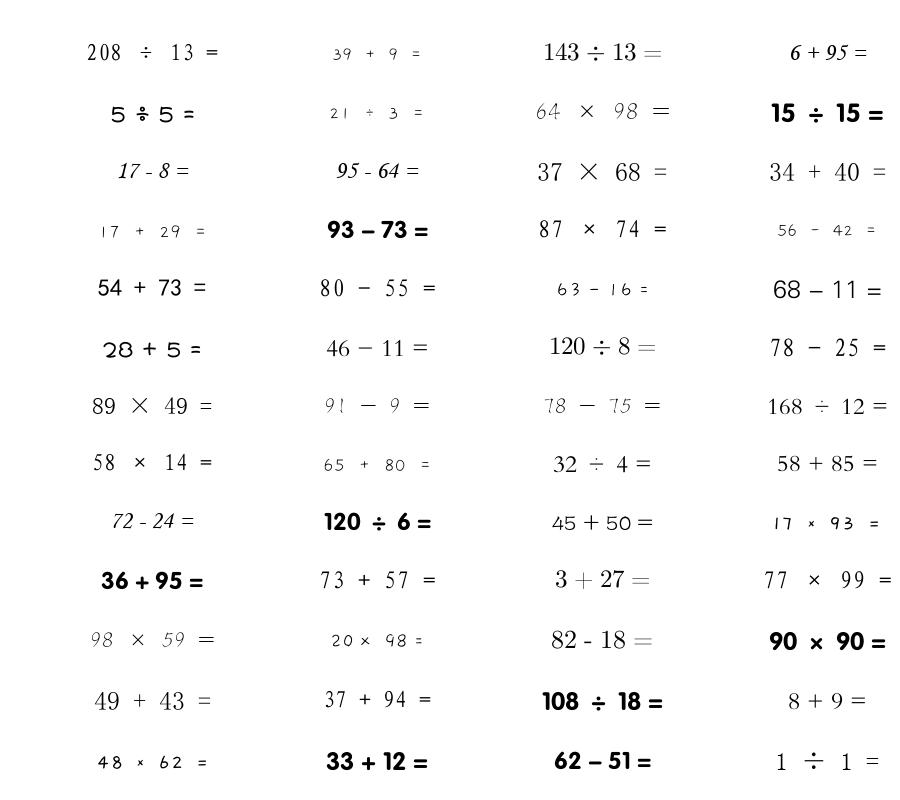MQ: (535, 102, 670, 120), (542, 691, 663, 711), (86, 43, 218, 61), (537, 163, 667, 181), (769, 631, 886, 651), (538, 220, 667, 238), (763, 571, 892, 589), (771, 103, 884, 123), (769, 338, 886, 357), (92, 453, 212, 471), (543, 43, 662, 61), (769, 163, 886, 181), (319, 279, 436, 297), (319, 571, 436, 589), (94, 692, 211, 710), (773, 280, 882, 299), (767, 398, 888, 415), (92, 397, 212, 414), (326, 751, 428, 771), (324, 512, 431, 531), (323, 690, 431, 708), (101, 571, 203, 590), (551, 630, 653, 649), (549, 337, 656, 355), (327, 220, 428, 239), (555, 570, 650, 590), (543, 398, 661, 414), (90, 632, 215, 647), (775, 752, 879, 770), (554, 751, 651, 770), (98, 279, 206, 296), (326, 340, 429, 357), (777, 455, 878, 472), (552, 514, 653, 531), (102, 341, 202, 358), (324, 398, 430, 414), (553, 456, 652, 473), (96, 755, 209, 769), (98, 225, 207, 239), (323, 458, 432, 472), (110, 106, 195, 123), (773, 517, 881, 530), (556, 282, 649, 297), (335, 162, 419, 178), (110, 513, 194, 529), (788, 693, 867, 710), (330, 634, 424, 648), (777, 224, 877, 237), (788, 44, 867, 60), (116, 162, 189, 179), (332, 48, 422, 61), (329, 108, 425, 120)
